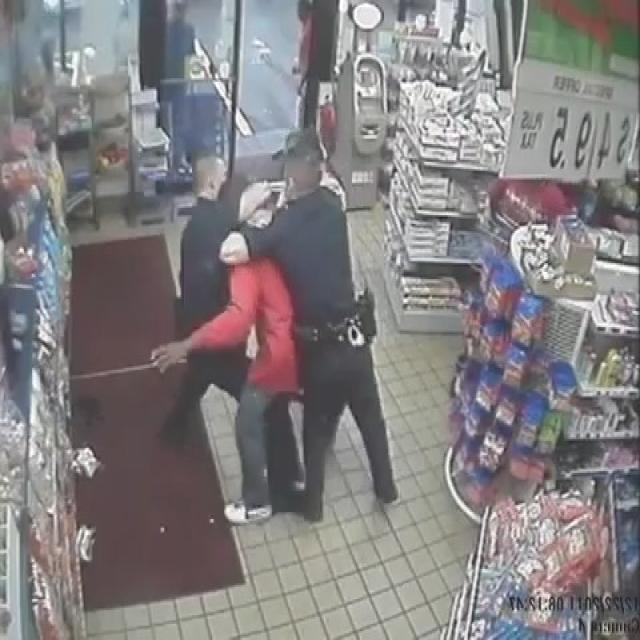fight: (164, 159, 286, 524)
